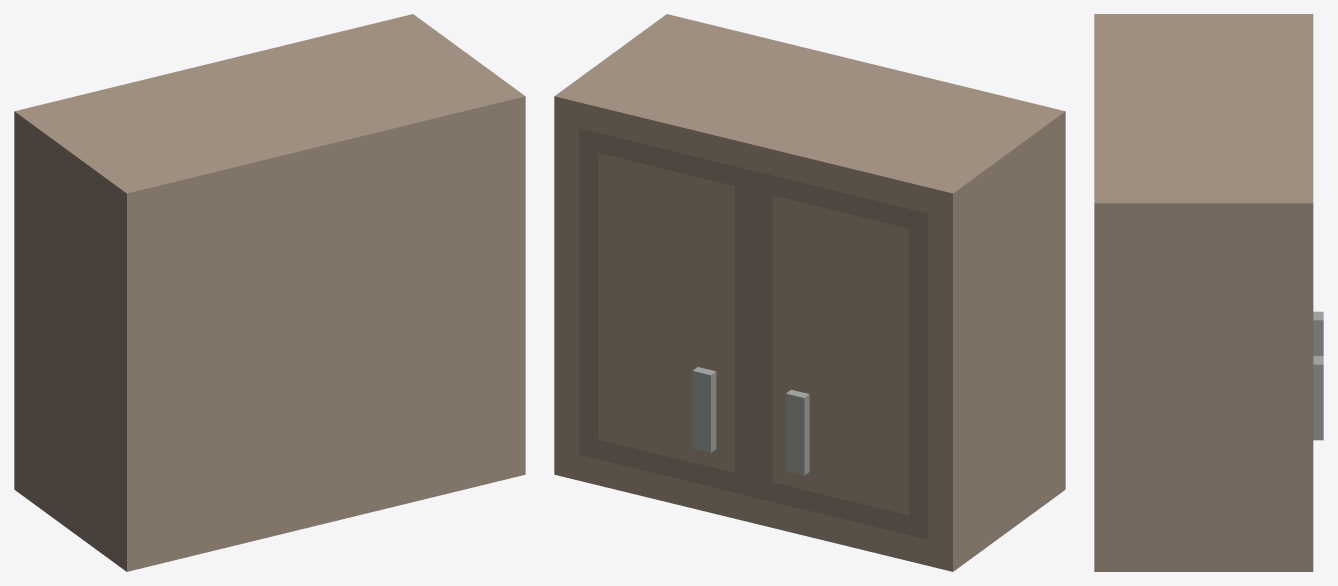
Rendered from kitchen_cabinet_upper_double.glb.
3 renders of one model, left to right at view 1: azimuth 30°, elevation 25°; view 2: azimuth 150°, elevation 25°; view 3: azimuth 270°, elevation 25°, orthographic. The views are drawn at different scales.
Visible parts, largest first — view 1: kitchen_cabinet_upper_double; view 2: kitchen_cabinet_upper_double; view 3: kitchen_cabinet_upper_double.
Boxes of the visible parts, x1,y1,x2,y2 form: kitchen_cabinet_upper_double: (14,14,525,571); kitchen_cabinet_upper_double: (554,14,1065,571); kitchen_cabinet_upper_double: (1094,14,1323,571).
Bounding box in the file's own units: 0.7938 × 0.72 × 0.4062.
